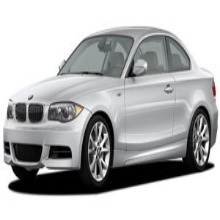no damage: (3, 26, 218, 187)
